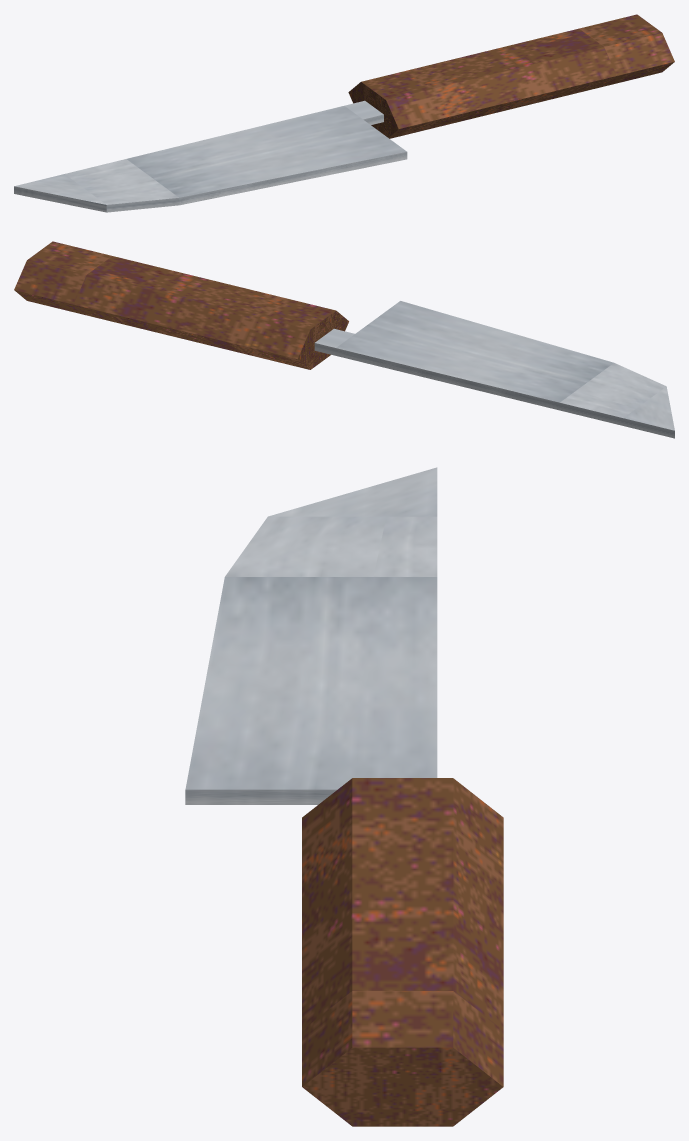
The model's file is kitchen_knife.fbx.
3 renders of one model, top to bottom at view 1: azimuth 30°, elevation 25°; view 2: azimuth 150°, elevation 25°; view 3: azimuth 270°, elevation 25°, orthographic. The views are drawn at different scales.
Visible parts, largest first — view 1: Cube, Cylinder; view 2: Cube, Cylinder; view 3: Cube, Cylinder.
Boxes of the visible parts, box(x1,y1,x2,y2) form: Cube: box(14, 100, 407, 212); Cylinder: box(348, 14, 674, 138); Cube: box(314, 301, 674, 438); Cylinder: box(14, 241, 348, 369); Cube: box(185, 467, 437, 804); Cylinder: box(302, 778, 503, 1126).
Size of the model in its own units: 216 by 12.99 by 47.38.
